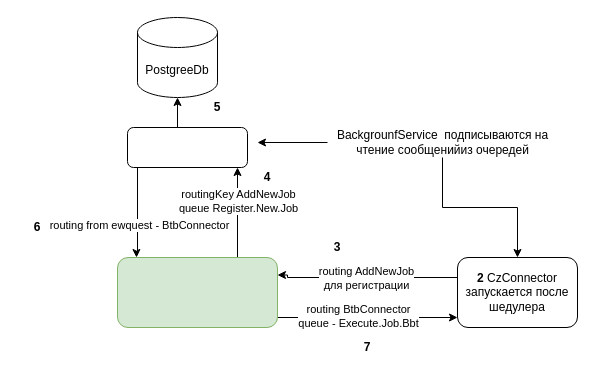
This 595x375 diagram has some shape labels left out. The centre of each missing label's shape, as x and y in pixels:
"1 Scheduler" belongs at pixel 187 147.
"Sceduler Exchange" belongs at pixel 197 292.
